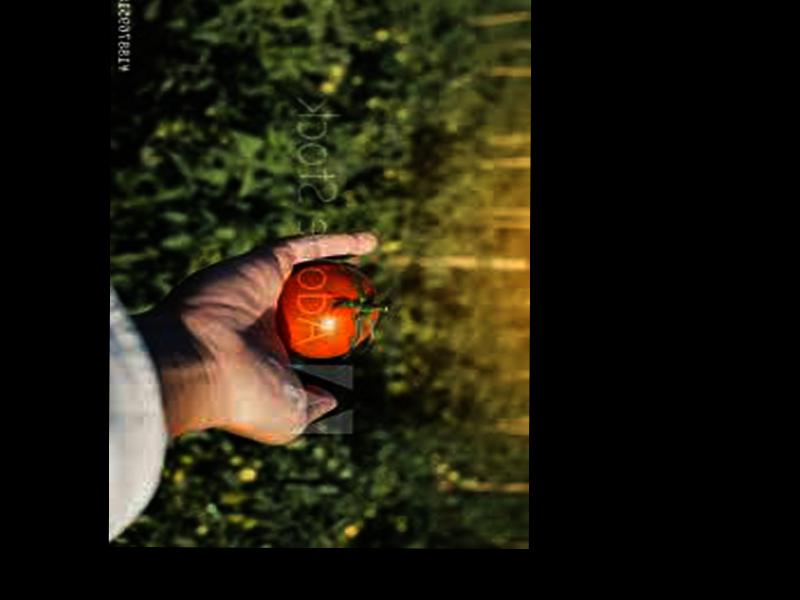Tomato: (281, 260, 378, 356)
